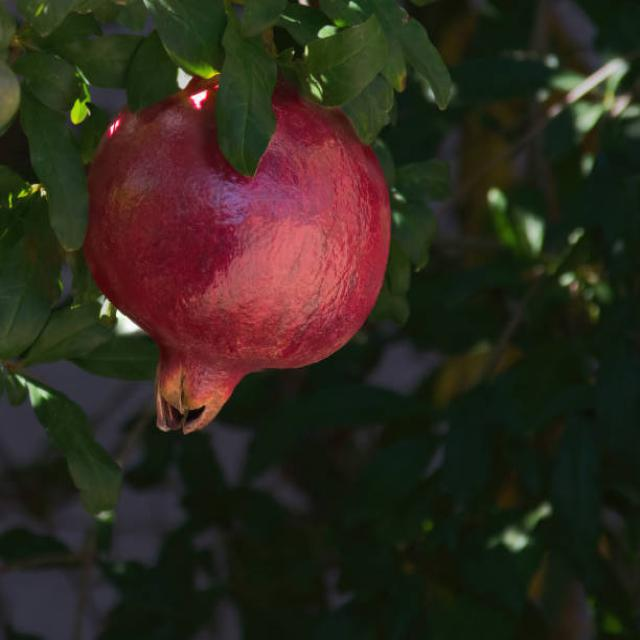Ripe: (73, 69, 394, 436)
